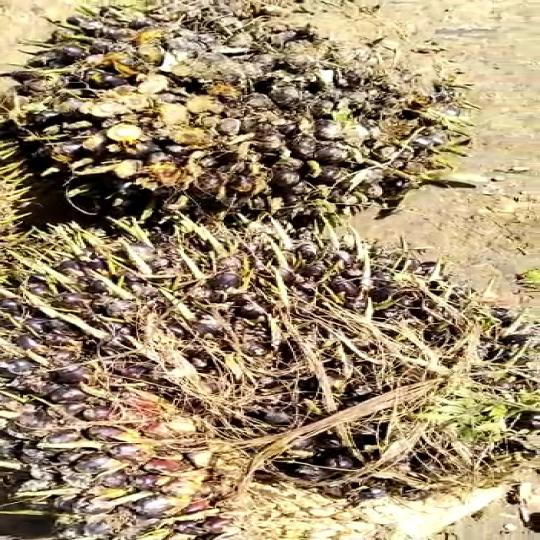mentah: (0, 210, 540, 540), (0, 0, 459, 247)
